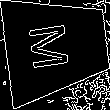M_E: (31, 20, 82, 74)
